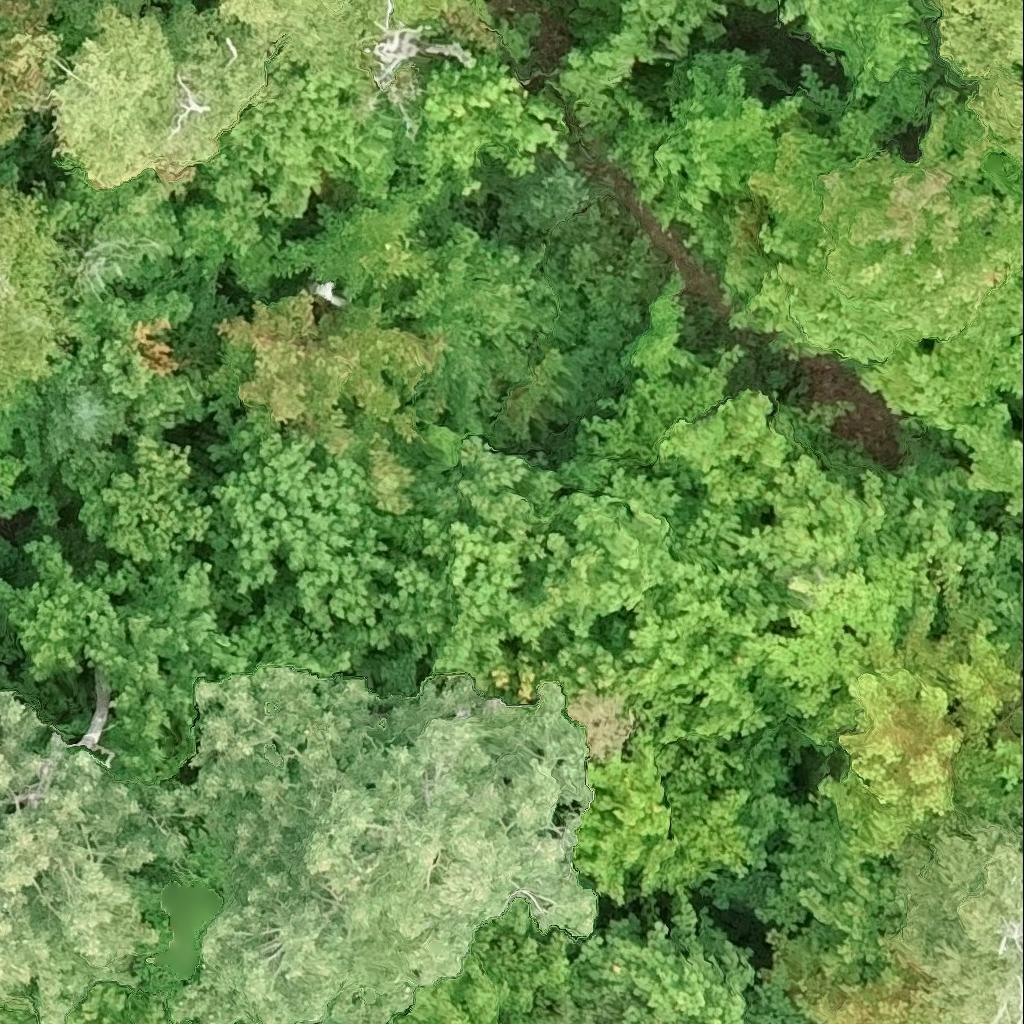crown: (378, 446, 808, 905), (597, 271, 1023, 714), (148, 666, 600, 1023), (616, 51, 1023, 443), (0, 535, 255, 805), (787, 573, 1023, 859), (0, 691, 187, 1023), (205, 398, 416, 681), (211, 296, 443, 507), (0, 290, 209, 520), (206, 37, 416, 251), (744, 0, 940, 154), (888, 802, 1023, 1023), (540, 0, 731, 156), (49, 1, 195, 186), (410, 51, 574, 205), (160, 0, 273, 191), (65, 434, 213, 561), (0, 160, 77, 393), (918, 0, 1023, 160), (368, 1, 475, 137), (219, 0, 397, 58), (0, 0, 71, 145), (952, 404, 1023, 516), (0, 609, 62, 719), (49, 392, 138, 468), (554, 988, 657, 1023), (70, 990, 174, 1023), (396, 0, 484, 27), (312, 280, 352, 309), (0, 999, 42, 1023)
